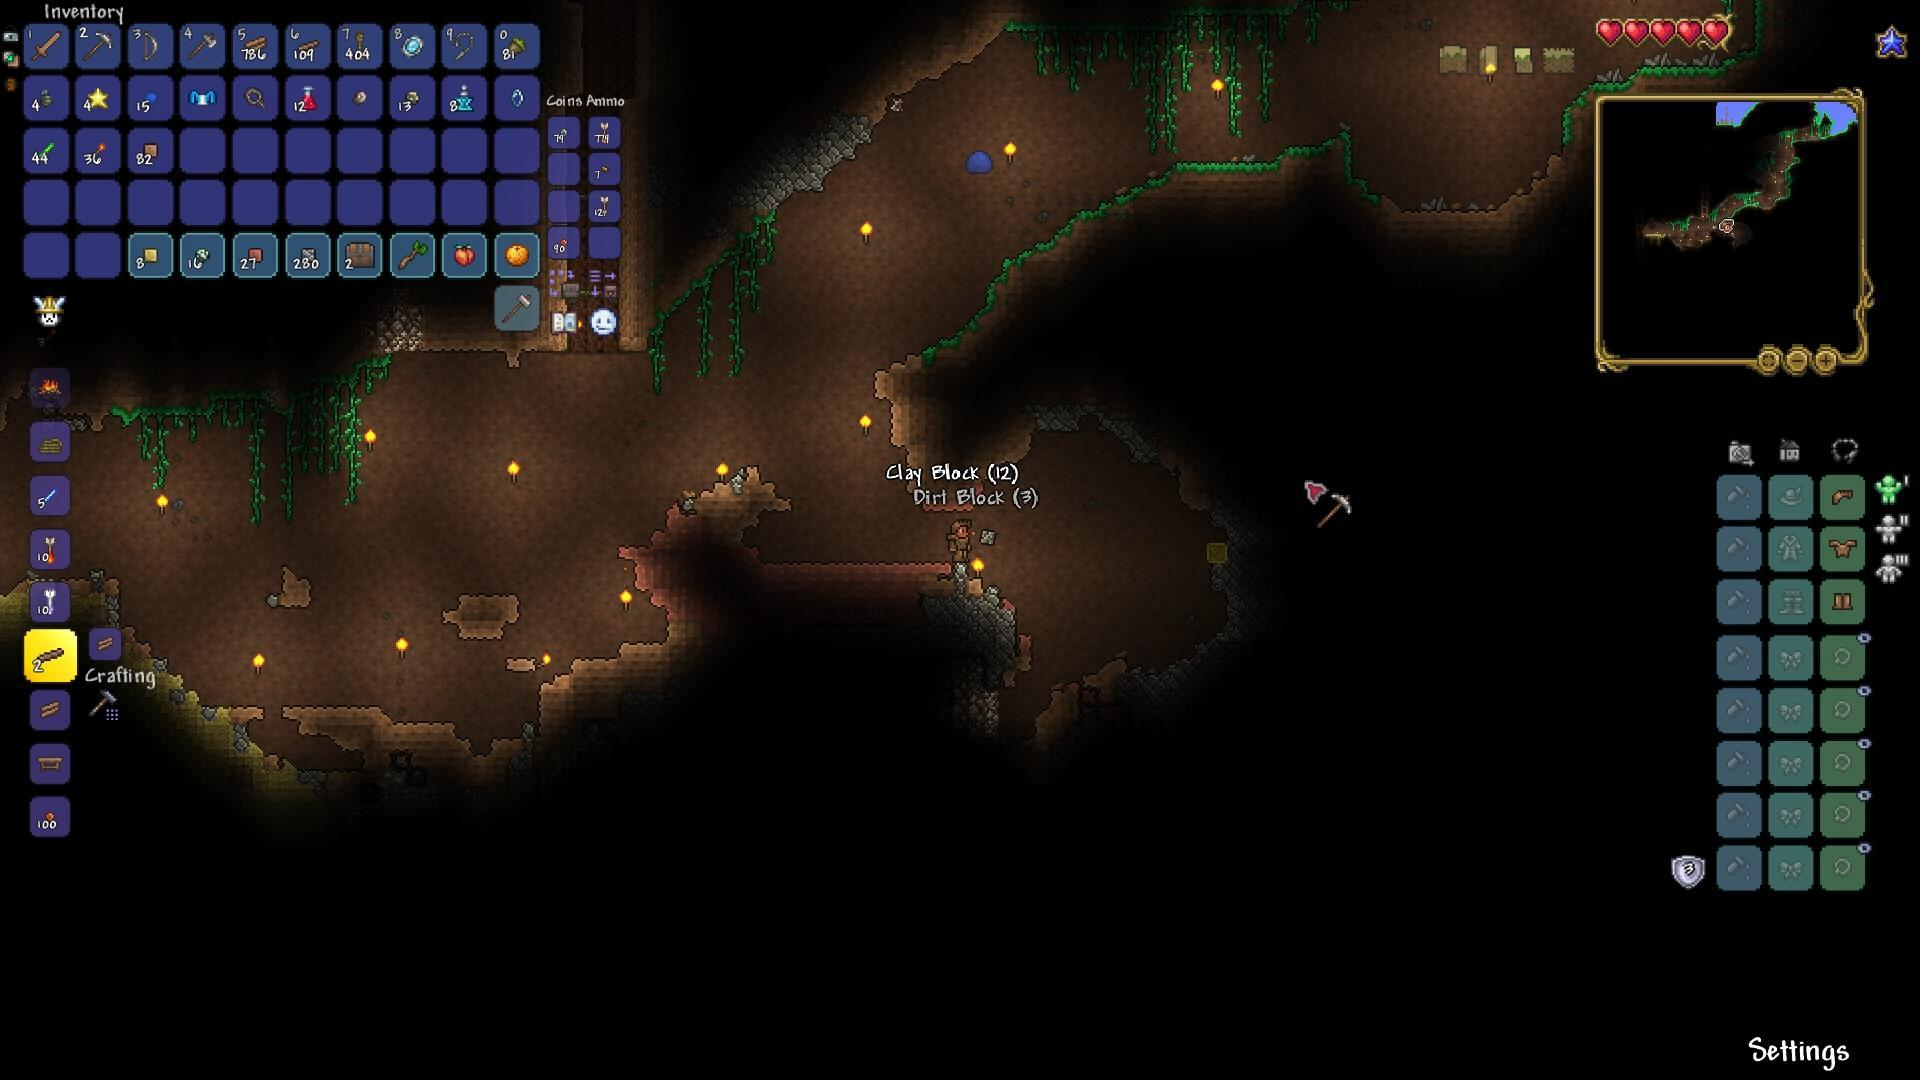chest: (343, 235, 377, 270)
grenade: (33, 84, 58, 113), (87, 84, 112, 109)
potion: (299, 83, 315, 116)
recallP: (456, 80, 475, 113)
slime: (965, 148, 994, 177)
